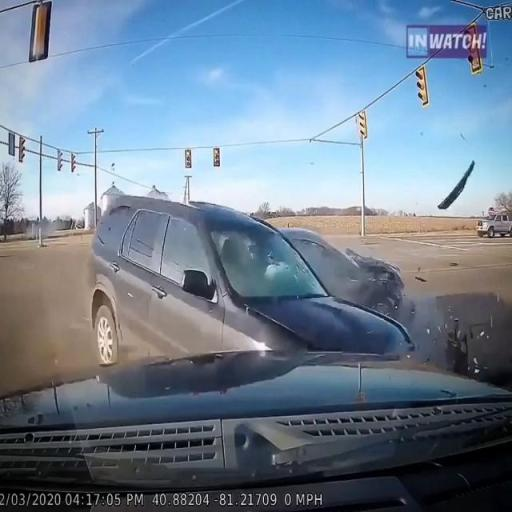小汽车撞小汽车: (84, 190, 427, 380)
